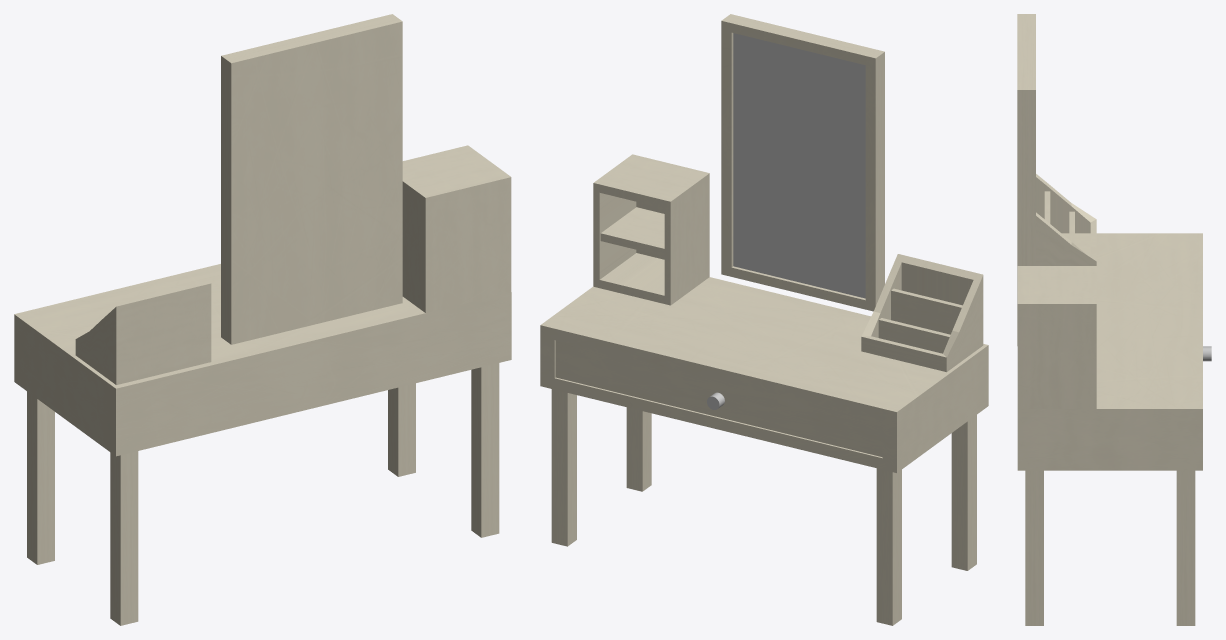
The model's file is 6. 화장대.fbx.
3 renders of one model, left to right at view 1: azimuth 30°, elevation 25°; view 2: azimuth 150°, elevation 25°; view 3: azimuth 270°, elevation 25°, orthographic. The views are drawn at different scales.
Visible parts, largest first — view 1: 본체.001; view 2: 본체.001; view 3: 본체.001.
Boxes of the visible parts, x1=… form: 본체.001: x1=14, y1=14, x2=511, y2=625; 본체.001: x1=540, y1=14, x2=988, y2=625; 본체.001: x1=1017, y1=14, x2=1211, y2=625.
Size of the model in its own units: 231 by 302 by 108.
